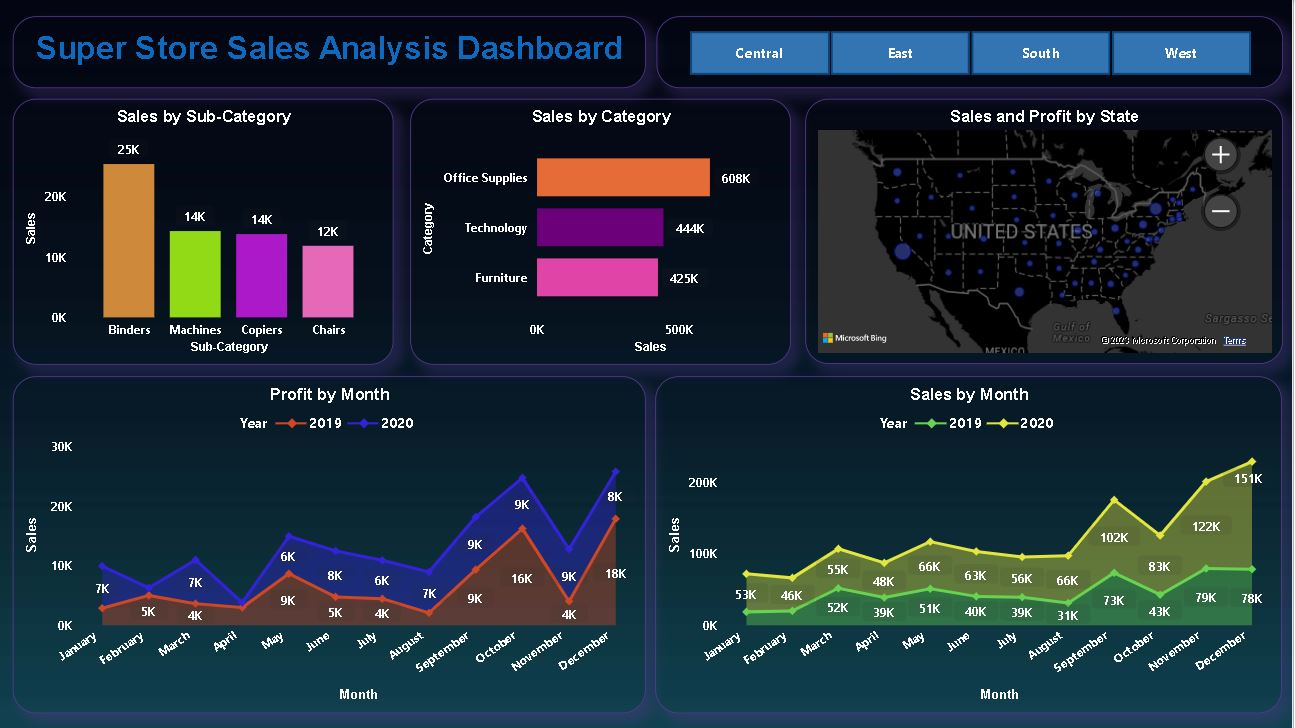

This screenshot's page, from the dashboard's own definition file:
{"tool":"powerbi","page":{"name":"Report","canvas":[1280,720],"ordinal":0},"visuals":[{"type":"barChart","title":"Sales by Category","fields":{"Category":["SuperStore_Sales_Dataset.Category"],"Y":["Sum(SuperStore_Sales_Dataset.Sales)"]},"box":[407.6,97.5,376.6,262.9],"z":0},{"type":"textbox","box":[13.3,16.2,626.1,70.9],"z":1000},{"type":"clusteredColumnChart","title":"Sales by Sub-Category","fields":{"Category":["SuperStore_Sales_Dataset.Sub-Category"],"Y":["Sum(SuperStore_Sales_Dataset.Sales)"]},"box":[13.3,97.5,376.6,262.9],"z":2000},{"type":"stackedAreaChart","title":"Sales by Month","fields":{"Category":["SuperStore_Sales_Dataset.Order Date.Variation.Date Hierarchy.Month"],"Y":["Sum(SuperStore_Sales_Dataset.Sales)"],"Series":["SuperStore_Sales_Dataset.Order Date.Variation.Date Hierarchy.Year"]},"box":[649.7,372.1,620.2,333.7],"z":3000},{"type":"stackedAreaChart","title":"Profit by Month","fields":{"Category":["SuperStore_Sales_Dataset.Order Date.Variation.Date Hierarchy.Month"],"Series":["SuperStore_Sales_Dataset.Order Date.Variation.Date Hierarchy.Year"],"Y":["Sum(SuperStore_Sales_Dataset.Profit)"]},"box":[13.3,372.1,626.1,333.7],"z":4000},{"type":"map","title":"Sales and Profit by State","fields":{"Category":["SuperStore_Sales_Dataset.State"],"Size":["Sum(SuperStore_Sales_Dataset.Sales)"]},"box":[797.8,97.7,472.5,262.2],"z":5000},{"type":"slicer","fields":{"Values":["SuperStore_Sales_Dataset.Region"]},"box":[650.3,15.9,619.9,70.8],"z":6000}]}

Visuals, with their boxes in screenshot pixels (x1, y1, x2, y2), scaled from the page's 1280x720 canvas onto the 1295x728 screenshot:
"Sales by Category" barChart: box(412, 99, 793, 364)
textbox: box(13, 16, 647, 88)
"Sales by Sub-Category" clusteredColumnChart: box(13, 99, 394, 364)
"Sales by Month" stackedAreaChart: box(657, 376, 1285, 714)
"Profit by Month" stackedAreaChart: box(13, 376, 647, 714)
"Sales and Profit by State" map: box(807, 99, 1285, 364)
slicer - SuperStore_Sales_Dataset.Region: box(658, 16, 1285, 88)
